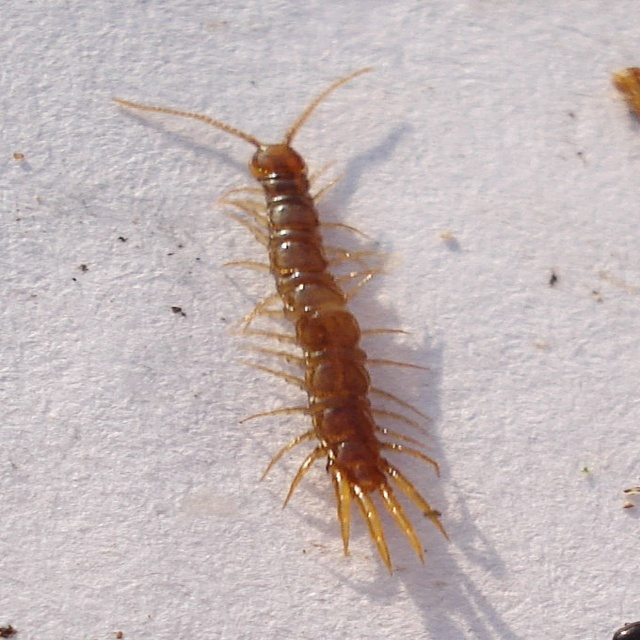Centipede: (114, 64, 451, 574)
